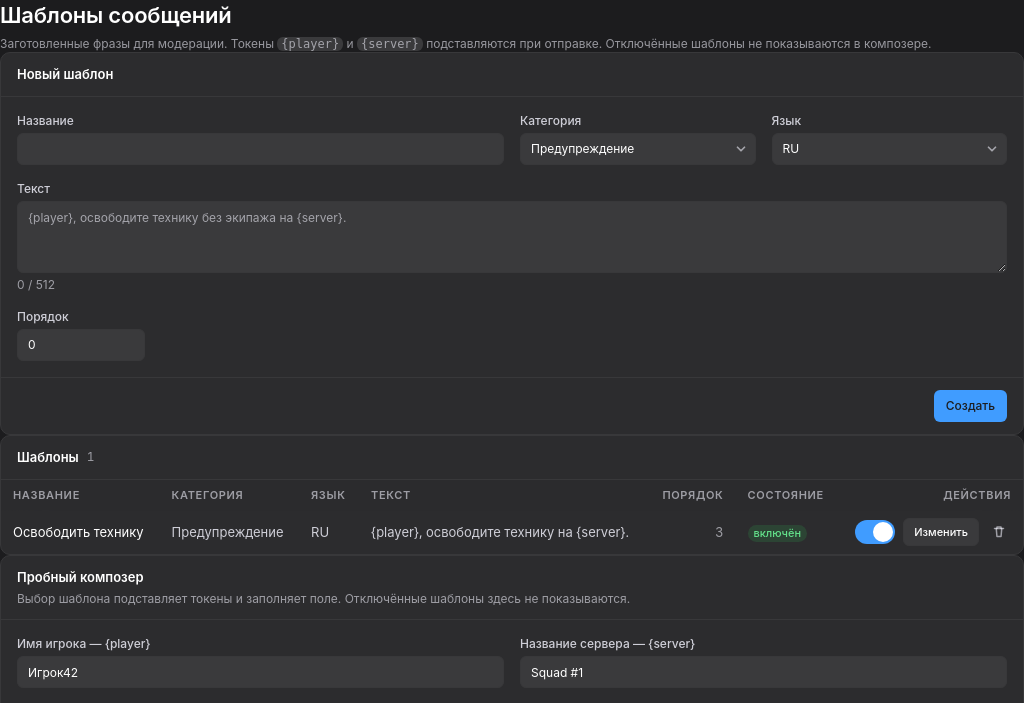
Test: MessageTemplatesPage › deletes a template only after the confirmation dialog is confirmed
This screenshot has width=1024, height=703.
Step 1. Click the button named "Удалить шаблон Освободить технику" → {"x": 999, "y": 532}, box [987,520,1011,544]
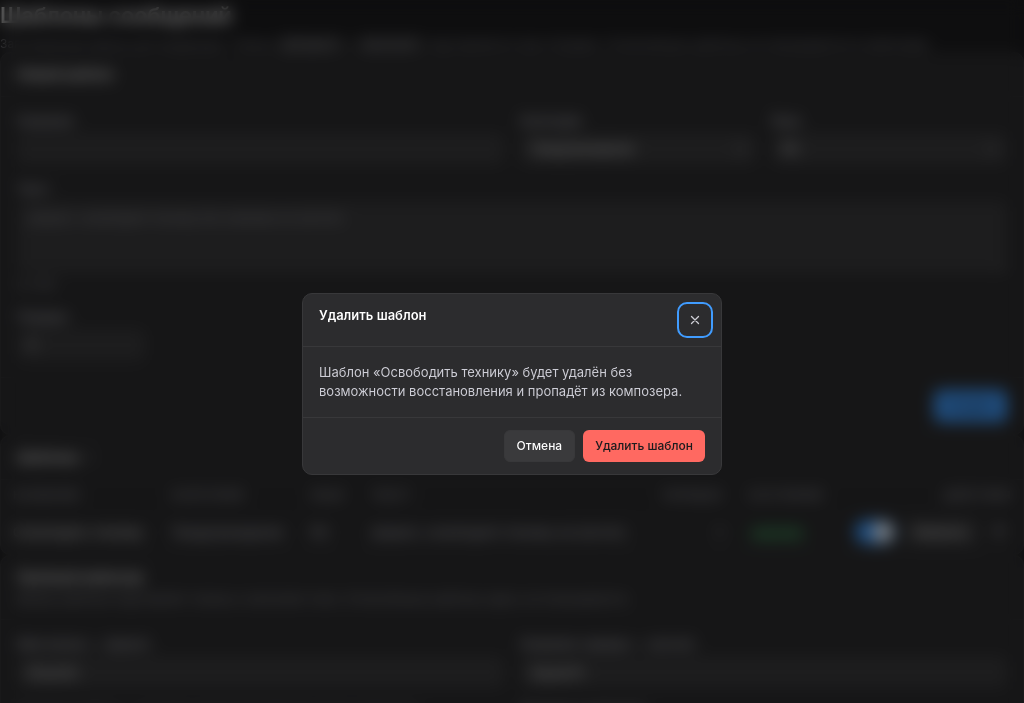
Check: the dialog "Удалить шаблон" shows "Освободить технику", box [319,364,682,399]
Step 2. Click the button "Удалить шаблон" → {"x": 644, "y": 446}, box [583,430,705,462]
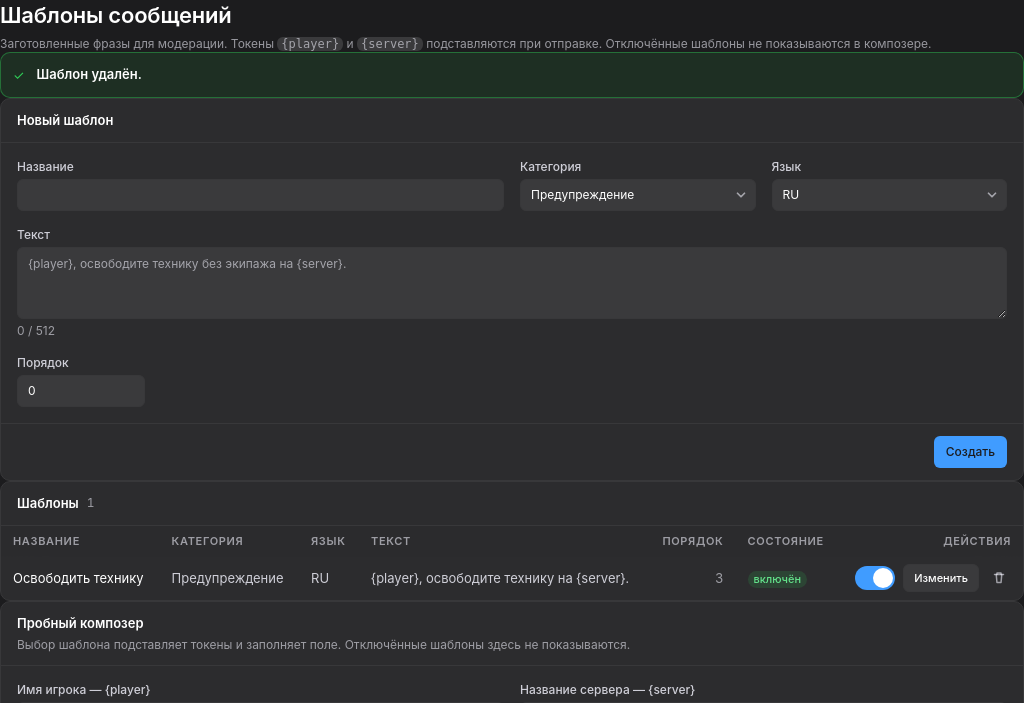
Check: the text "Шаблон удалён." is shown, box [36,66,142,82]
